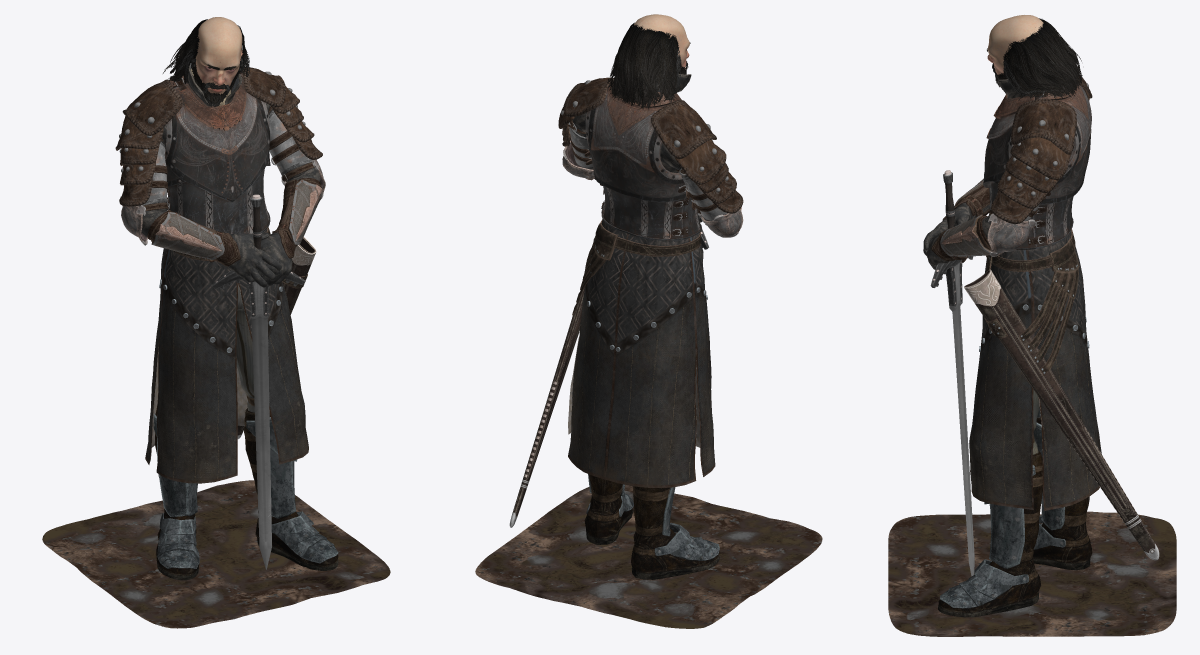
File: rodverin-turgven-mortenn.fbx
The picture shows the model from 3 angles, left to right: view 1: azimuth 30°, elevation 25°; view 2: azimuth 150°, elevation 25°; view 3: azimuth 270°, elevation 25°; orthographic projection. The views are drawn at different scales.
Visible parts, largest first — view 1: piso_piso_mat_0_0, gabardina_ext_F_Gabardina_0_0, armadura_C_Armadura_0_0, Brazos_cuello_D_Brazos_Cuello_0_0, piernas_J_Piernas_0_0, Hombreras_coderas_E_Hombreras_coderas_0_0, espada_funda_espada_funda_mat_0_0, cabeza_A_Cabeza_0_0, Pelo_Z_Cabello_0_0, gabardina_interior_G_Gabardina_interior_0_0; view 2: gabardina_ext_F_Gabardina_0_0, piso_piso_mat_0_0, armadura_C_Armadura_0_0, piernas_J_Piernas_0_0, Hombreras_coderas_E_Hombreras_coderas_0_0, Pelo_Z_Cabello_0_0, Cinturon_gab_Cinturon_gab1_0_0, Brazos_cuello_D_Brazos_Cuello_0_0, espada_funda_espada_funda_mat_0_0, cabeza_A_Cabeza_0_0; view 3: piso_piso_mat_0_0, gabardina_ext_F_Gabardina_0_0, piernas_J_Piernas_0_0, espada_funda_espada_funda_mat_0_0, Hombreras_coderas_E_Hombreras_coderas_0_0, armadura_C_Armadura_0_0, Cinturon_gab_Cinturon_gab1_0_0, Pelo_Z_Cabello_0_0, Brazos_cuello_D_Brazos_Cuello_0_0, cabeza_A_Cabeza_0_0.
Part boxes in pixels (x1=…): piso_piso_mat_0_0: x1=42, y1=480, x2=390, y2=628; gabardina_ext_F_Gabardina_0_0: x1=145, y1=229, x2=308, y2=483; armadura_C_Armadura_0_0: x1=164, y1=72, x2=270, y2=234; Brazos_cuello_D_Brazos_Cuello_0_0: x1=137, y1=63, x2=322, y2=287; piernas_J_Piernas_0_0: x1=153, y1=283, x2=338, y2=580; Hombreras_coderas_E_Hombreras_coderas_0_0: x1=115, y1=67, x2=325, y2=245; espada_funda_espada_funda_mat_0_0: x1=211, y1=194, x2=316, y2=569; cabeza_A_Cabeza_0_0: x1=195, y1=17, x2=242, y2=94; Pelo_Z_Cabello_0_0: x1=163, y1=19, x2=249, y2=107; gabardina_interior_G_Gabardina_interior_0_0: x1=149, y1=287, x2=247, y2=464; gabardina_ext_F_Gabardina_0_0: x1=568, y1=219, x2=715, y2=488; piso_piso_mat_0_0: x1=475, y1=484, x2=822, y2=628; armadura_C_Armadura_0_0: x1=585, y1=82, x2=701, y2=240; piernas_J_Piernas_0_0: x1=584, y1=474, x2=719, y2=579; Hombreras_coderas_E_Hombreras_coderas_0_0: x1=558, y1=77, x2=743, y2=237; Pelo_Z_Cabello_0_0: x1=606, y1=22, x2=690, y2=109; Cinturon_gab_Cinturon_gab1_0_0: x1=572, y1=220, x2=707, y2=351; Brazos_cuello_D_Brazos_Cuello_0_0: x1=568, y1=74, x2=741, y2=222; espada_funda_espada_funda_mat_0_0: x1=509, y1=219, x2=708, y2=527; cabeza_A_Cabeza_0_0: x1=634, y1=14, x2=689, y2=68; piso_piso_mat_0_0: x1=888, y1=511, x2=1176, y2=636; gabardina_ext_F_Gabardina_0_0: x1=969, y1=232, x2=1101, y2=510; piernas_J_Piernas_0_0: x1=938, y1=390, x2=1092, y2=617; espada_funda_espada_funda_mat_0_0: x1=930, y1=170, x2=1159, y2=576; Hombreras_coderas_E_Hombreras_coderas_0_0: x1=987, y1=75, x2=1092, y2=256; armadura_C_Armadura_0_0: x1=983, y1=84, x2=1091, y2=250; Cinturon_gab_Cinturon_gab1_0_0: x1=979, y1=229, x2=1089, y2=375; Pelo_Z_Cabello_0_0: x1=987, y1=18, x2=1082, y2=99; Brazos_cuello_D_Brazos_Cuello_0_0: x1=923, y1=79, x2=1045, y2=269; cabeza_A_Cabeza_0_0: x1=987, y1=15, x2=1043, y2=74.
Bounding box in the file's own units: 9177 × 18472 × 9177.
Materials: 13 (13 with a texture image).
